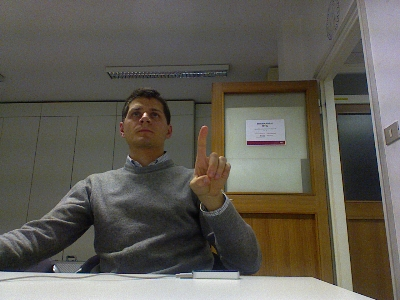食指: (188, 124, 231, 198)
